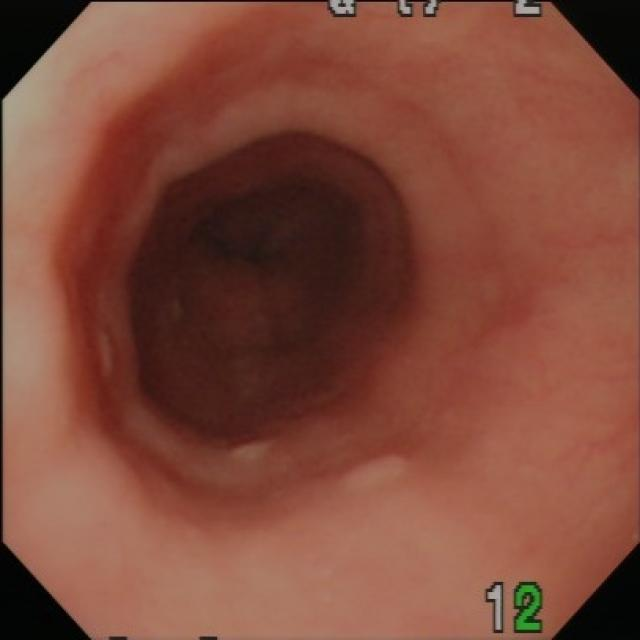I: (174, 176, 361, 359)
J: (338, 449, 413, 492), (97, 326, 122, 383), (228, 437, 276, 463)
S: (485, 581, 547, 636), (325, 3, 545, 18)
